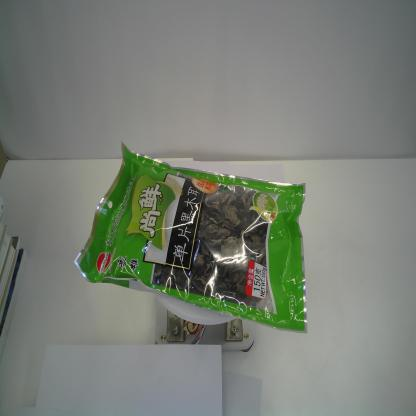Dried Food: (72, 138, 310, 338)
